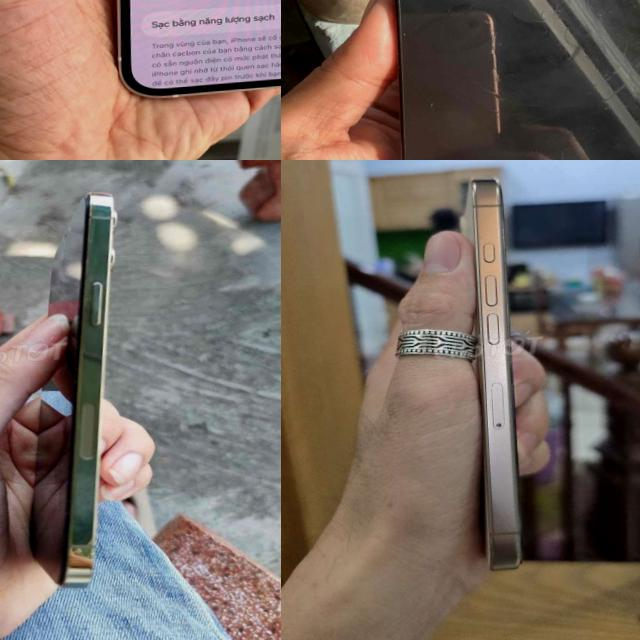gen_12_13: (11, 191, 140, 594), (88, 0, 281, 113)
gen_14: (353, 0, 640, 160)
gen_16: (436, 162, 560, 580)
